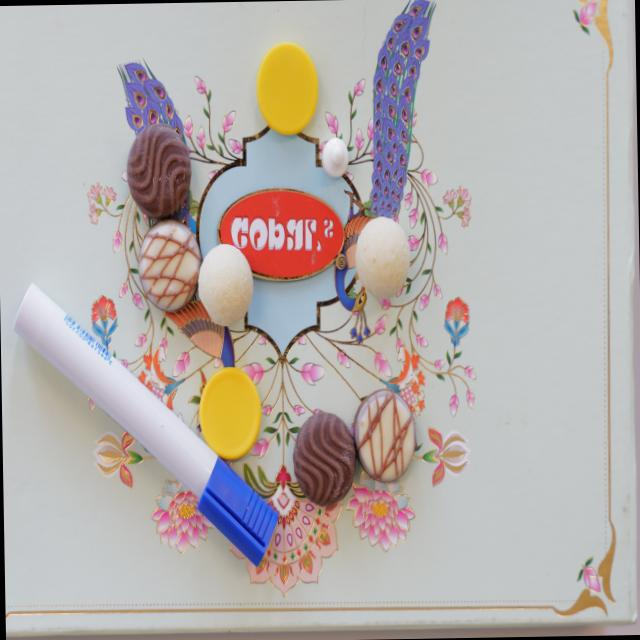Comtesse: (198, 242, 255, 327), (356, 214, 412, 300)
Creme_brulee: (354, 388, 417, 484), (138, 220, 202, 312)
Noir_authentique: (126, 122, 193, 220), (294, 412, 358, 508)
